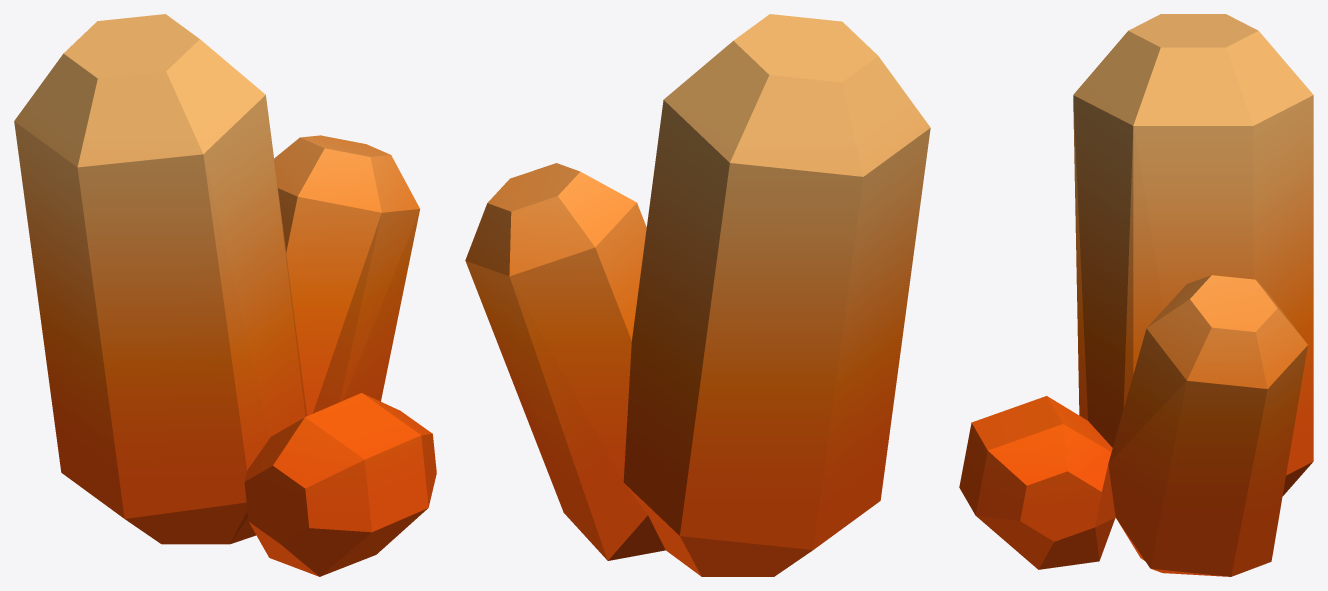
File: Crystal_3.1.fbx
3 renders of one model, left to right at view 1: azimuth 30°, elevation 25°; view 2: azimuth 150°, elevation 25°; view 3: azimuth 270°, elevation 25°, orthographic. The views are drawn at different scales.
Parts seen in each view (by area): view 1: Crystal_01.1; view 2: Crystal_01.1; view 3: Crystal_01.1.
Boxes of the visible parts, x1=… form: Crystal_01.1: x1=14, y1=14, x2=436, y2=576; Crystal_01.1: x1=465, y1=14, x2=930, y2=576; Crystal_01.1: x1=959, y1=14, x2=1313, y2=576.
Size of the model in its own units: 28.39 by 36.26 by 24.75.
